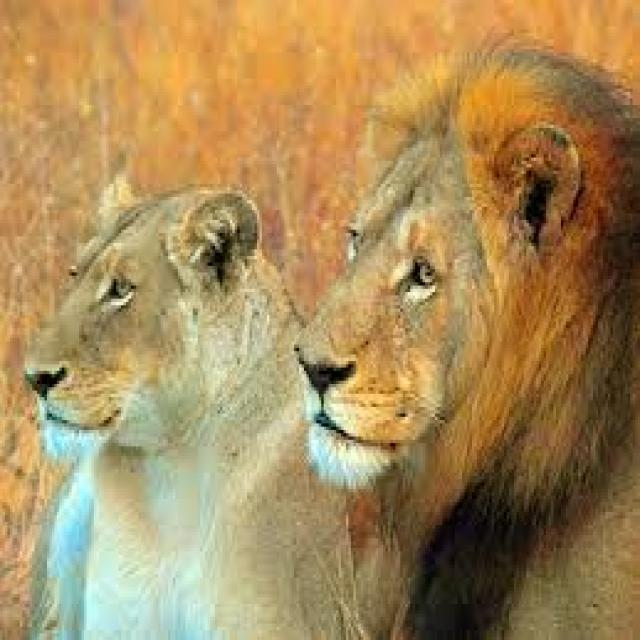Lion: (299, 44, 637, 632)
